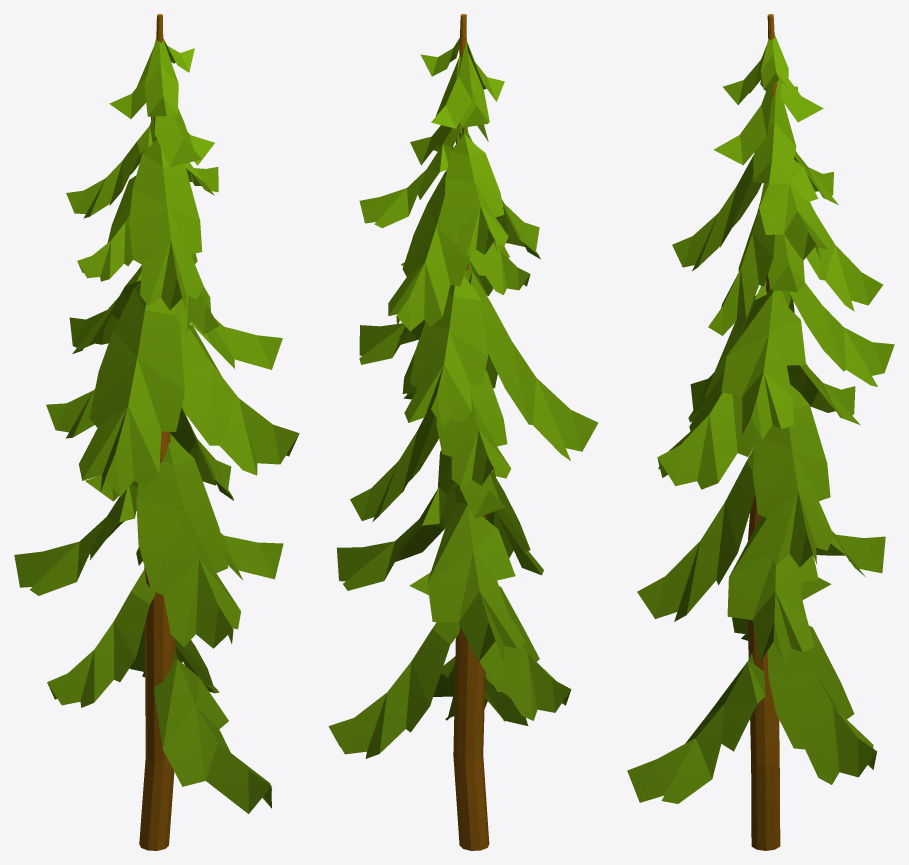
The model's file is pinheiro_magro.glb.
3 views of the same model, side by side, from view 1: azimuth 30°, elevation 25°; view 2: azimuth 150°, elevation 25°; view 3: azimuth 270°, elevation 25° (orthographic).
Parts seen in each view (by area): view 1: SM_FreeTree_01; view 2: SM_FreeTree_01; view 3: SM_FreeTree_01.
Part boxes in pixels (left/top/right/bottom): SM_FreeTree_01: left=14, top=14, right=299, bottom=850; SM_FreeTree_01: left=328, top=14, right=598, bottom=850; SM_FreeTree_01: left=627, top=14, right=894, bottom=850.
Size of the model in its own units: 2.03 by 6.81 by 1.98.
Materials: 1 (1 with a texture image).
